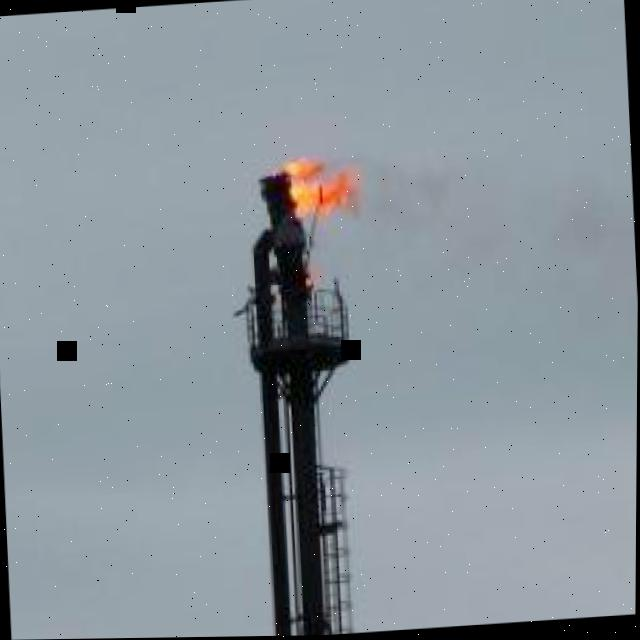fire: (270, 155, 360, 226), (307, 273, 319, 289)
smoke: (307, 148, 635, 266)
